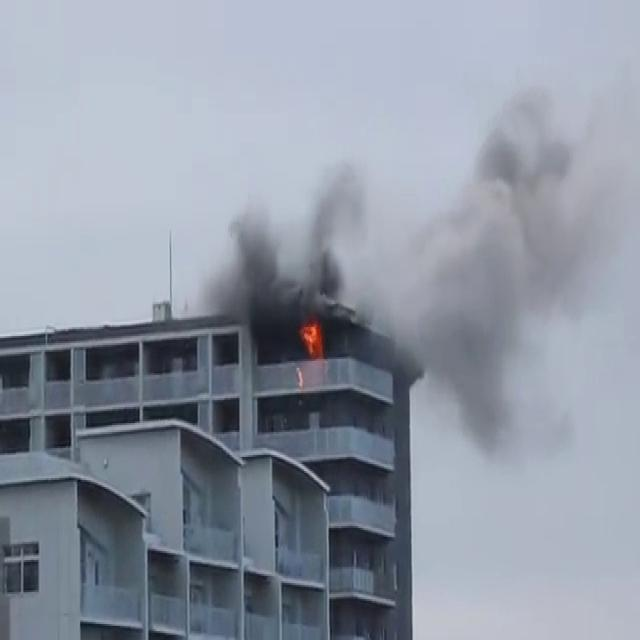Fire: (296, 314, 328, 366)
Smoke: (190, 55, 640, 363)
